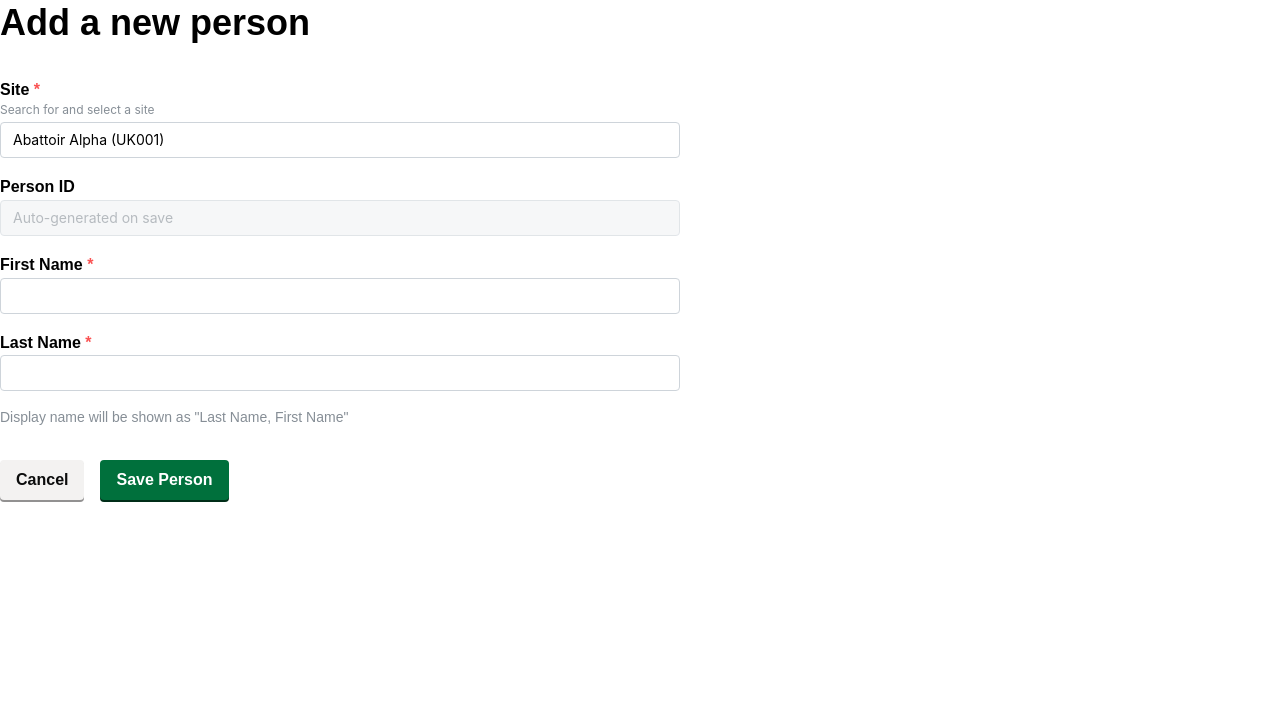
AddPersonPage › closes duplicate modal when cancel is clicked
In the field with test id "first-name-input": (340, 296) [0, 278, 680, 314], type "John"
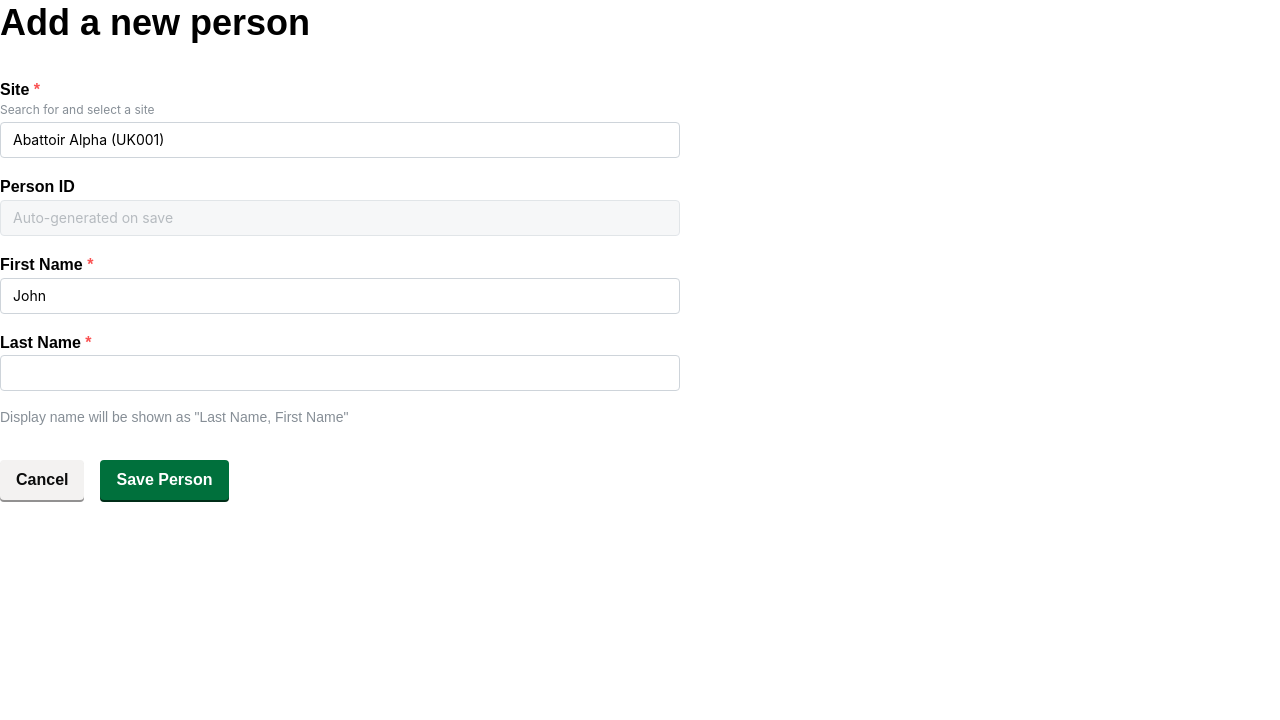
In the field with test id "last-name-input": (340, 373) [0, 355, 680, 391], type "Smith"
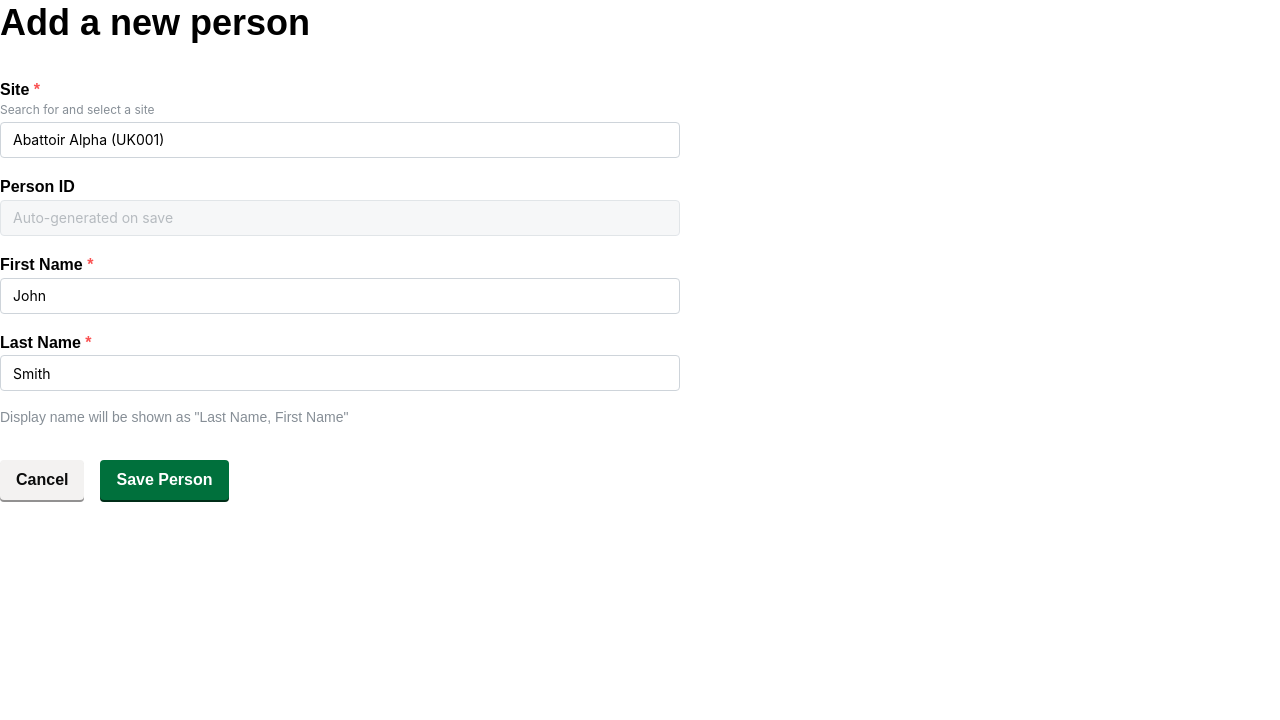
Click the button with test id "save-button": (165, 480) [100, 460, 229, 500]
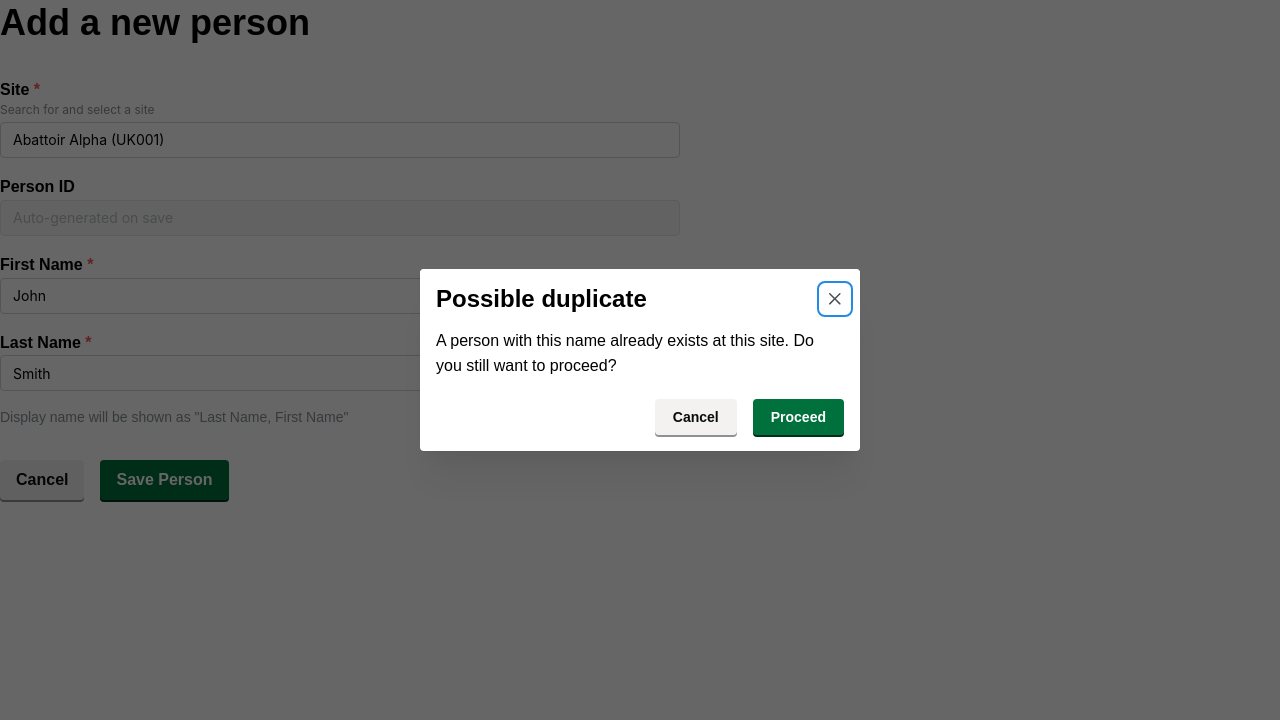
expect the button with test id "duplicate-cancel-button" is shown: met
Click the button with test id "duplicate-cancel-button": (696, 417) [655, 399, 737, 435]
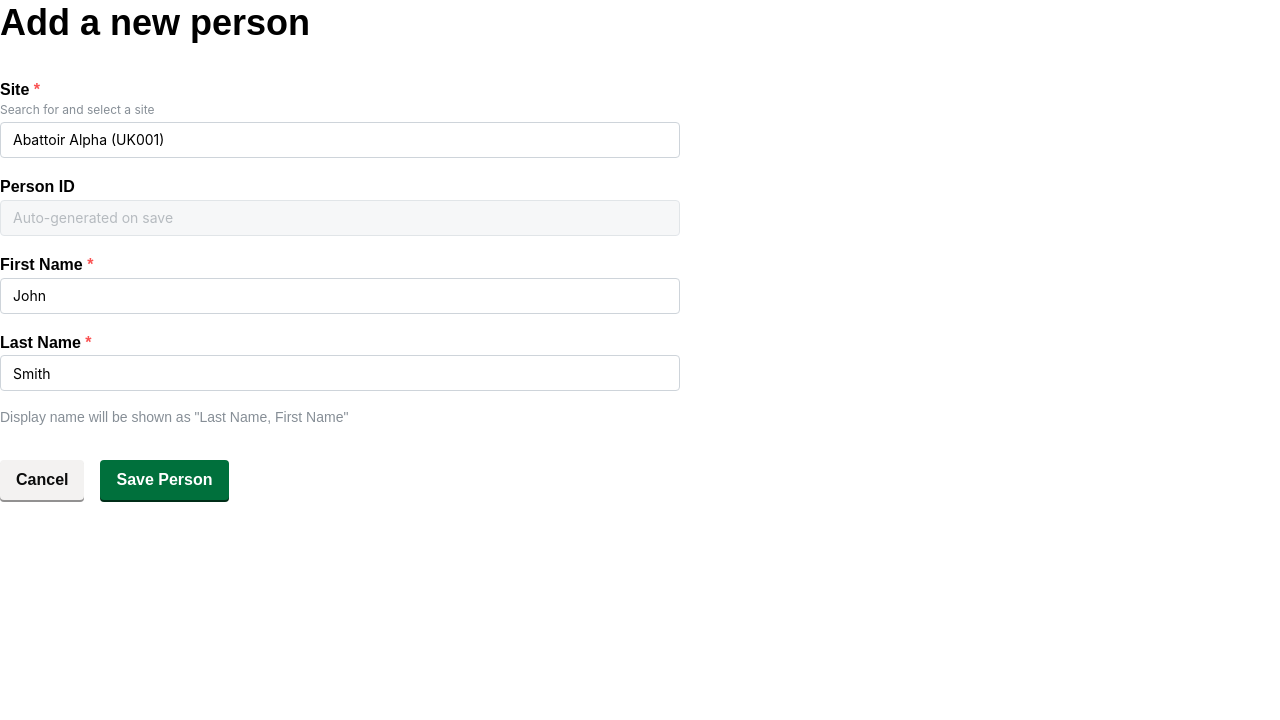
expect the button with test id "duplicate-cancel-button" is gone: met
